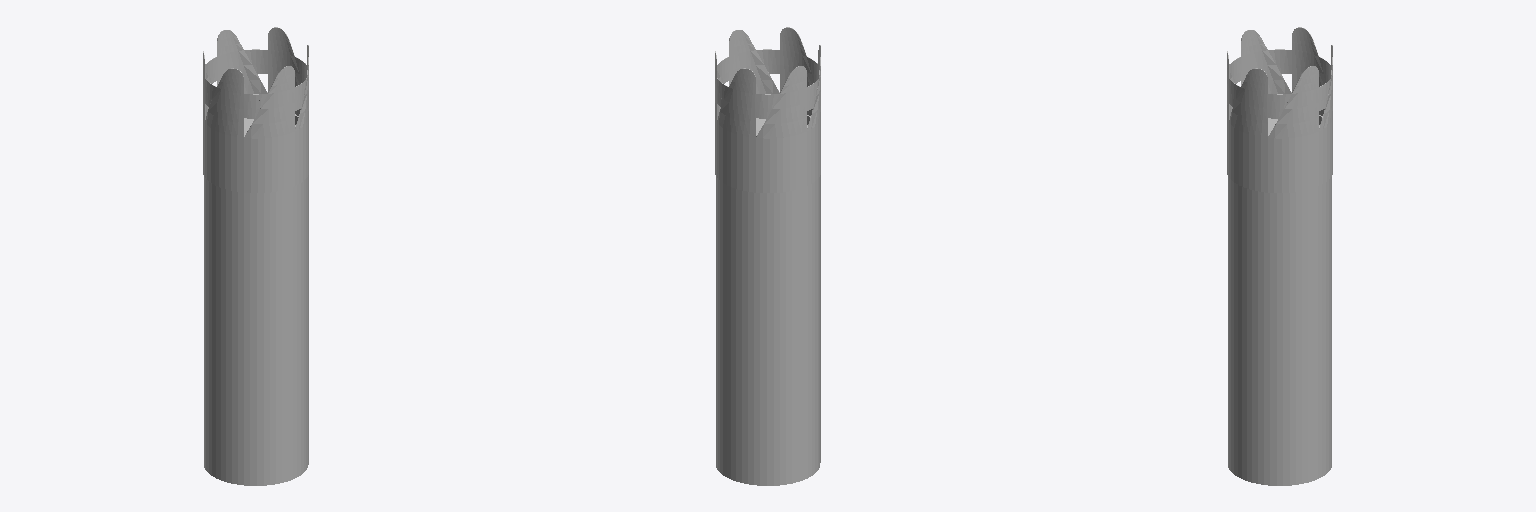
The model's file is kekse_vor_animation.obj.
3 views of the same model, side by side, from view 1: azimuth 30°, elevation 25°; view 2: azimuth 150°, elevation 25°; view 3: azimuth 270°, elevation 25° (orthographic).
Visible parts, largest first — view 1: Basis, Zacke_mit_Verbindung_fertig; view 2: Basis, Zacke_mit_Verbindung_fertig; view 3: Basis, Zacke_mit_Verbindung_fertig.
Boxes of the visible parts, <box> form: Basis: <box>204,114,308,485</box>; Zacke_mit_Verbindung_fertig: <box>203,27,308,192</box>; Basis: <box>716,115,820,485</box>; Zacke_mit_Verbindung_fertig: <box>715,27,820,192</box>; Basis: <box>1228,115,1331,485</box>; Zacke_mit_Verbindung_fertig: <box>1227,27,1332,192</box>.
Size of the model in its own units: 0.0764 by 0.3279 by 0.0764.